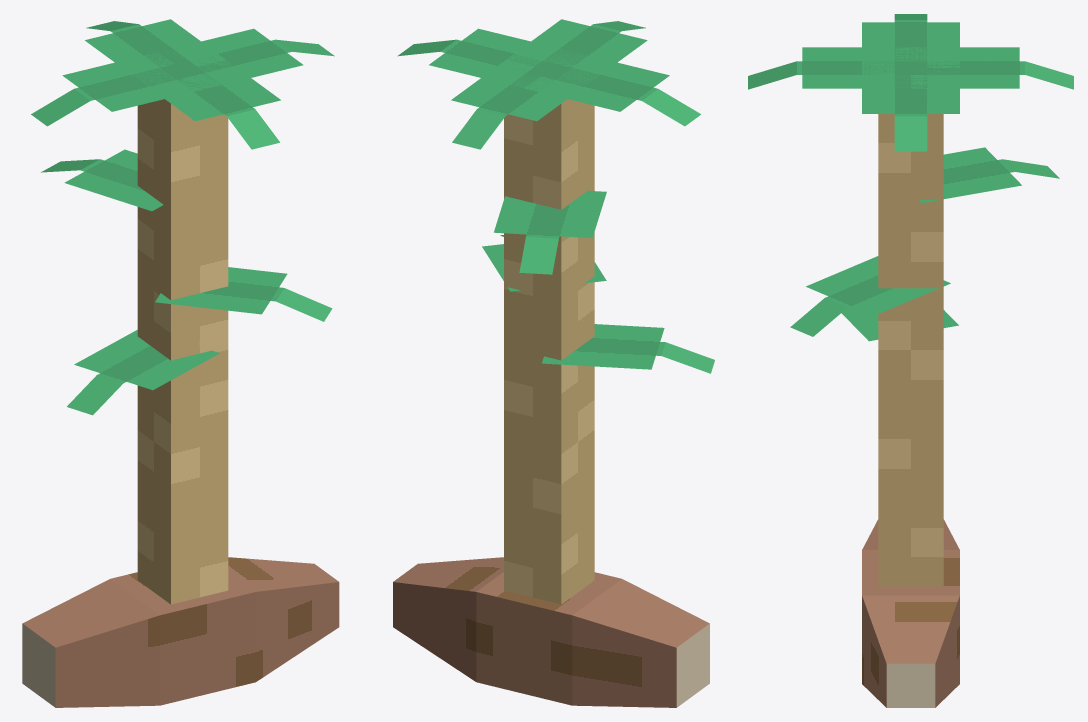
The model's file is phase3.glb.
3 renders of one model, left to right at view 1: azimuth 30°, elevation 25°; view 2: azimuth 150°, elevation 25°; view 3: azimuth 270°, elevation 25°, orthographic. The views are drawn at different scales.
Parts seen in each view (by area): view 1: cube, cuboid, plane (×7); view 2: cube, cuboid, plane (×7); view 3: cube, plane (×7), cuboid.
Boxes of the visible parts, x1,y1,x2,y2 form: cube: [137, 99, 228, 604]; cuboid: [22, 557, 339, 707]; plane (×7): [31, 19, 334, 415]; cube: [504, 99, 594, 604]; cuboid: [393, 557, 709, 707]; plane (×7): [397, 19, 714, 373]; cube: [878, 114, 943, 586]; plane (×7): [748, 14, 1073, 341]; cuboid: [862, 519, 959, 707].
Size of the model in its own units: 0.6383 by 1.26 by 0.625.
Materials: 1 (1 with a texture image).
